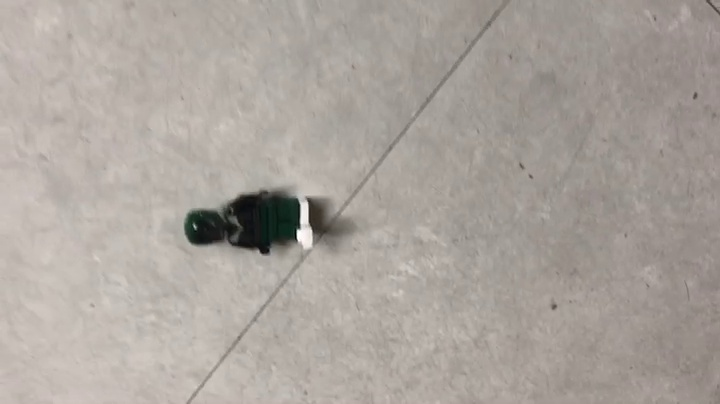people: (183, 188, 326, 256)
